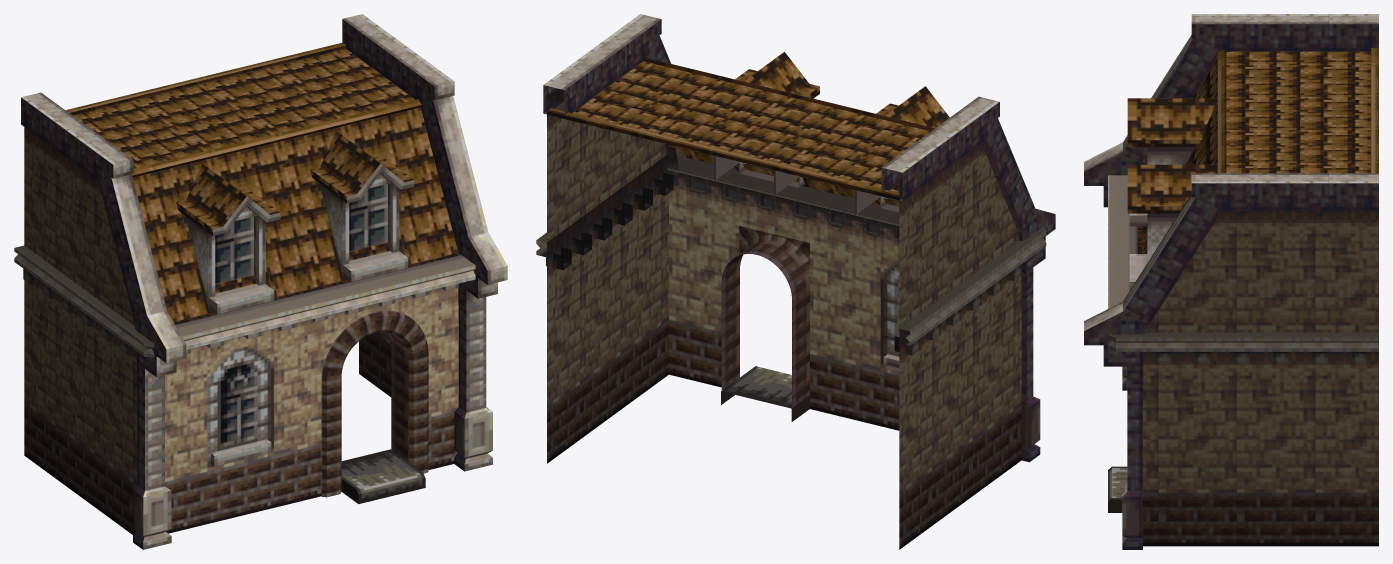
File: EnvBdgMD_City_A_Outdoor_SA.FBX
3 views of the same model, side by side, from view 1: azimuth 30°, elevation 25°; view 2: azimuth 150°, elevation 25°; view 3: azimuth 270°, elevation 25° (orthographic). The views are drawn at different scales.
Parts seen in each view (by area): view 1: EnvBdgMD_City_A_Outdoor_SA; view 2: EnvBdgMD_City_A_Outdoor_SA; view 3: EnvBdgMD_City_A_Outdoor_SA.
Part boxes in pixels (left/top/right/bottom): EnvBdgMD_City_A_Outdoor_SA: left=14, top=14, right=507, bottom=549; EnvBdgMD_City_A_Outdoor_SA: left=536, top=14, right=1055, bottom=549; EnvBdgMD_City_A_Outdoor_SA: left=1084, top=14, right=1378, bottom=549.
Bounding box in the file's own units: 530 × 376 × 513.
1 material, 1 textured.
